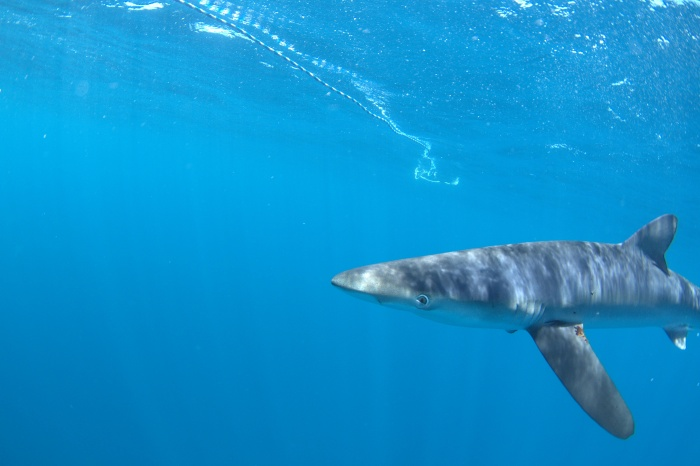Azul: (308, 200, 700, 442)
